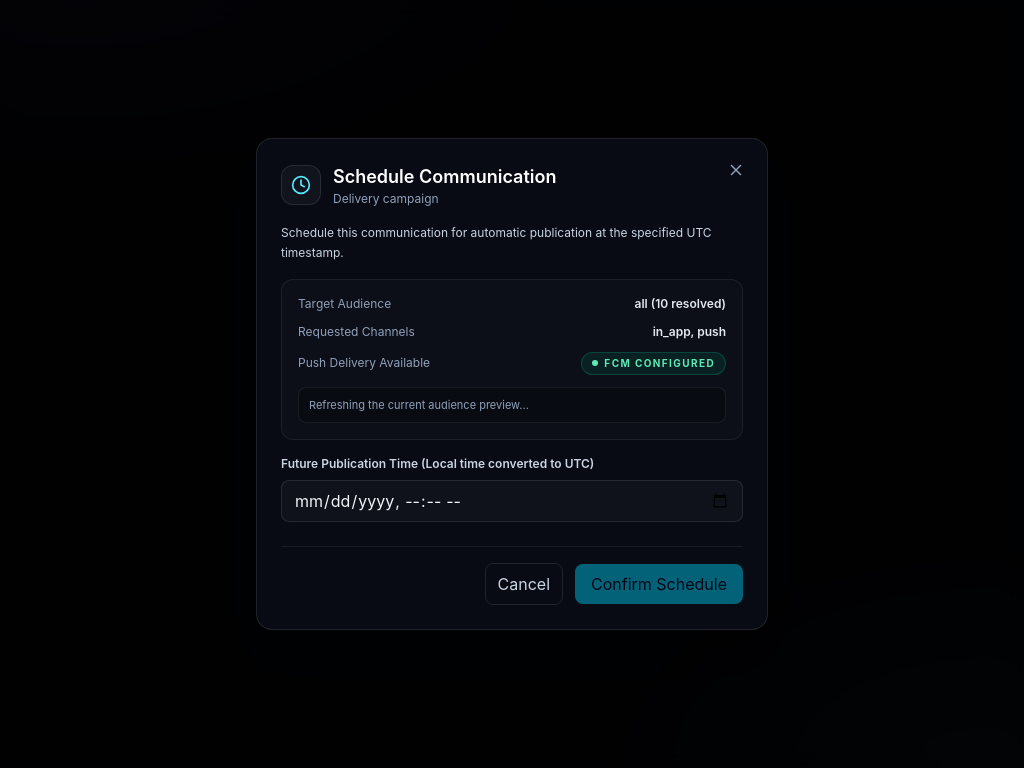
Scenario: consequential action safeguards › surfaces a failed mutation without closing the action
Step 1. Type "2099-01-01T10:00" into the field labelled "Future Publication Time (Local time converted to UTC)" → (512, 502), box [281,480,743,522]
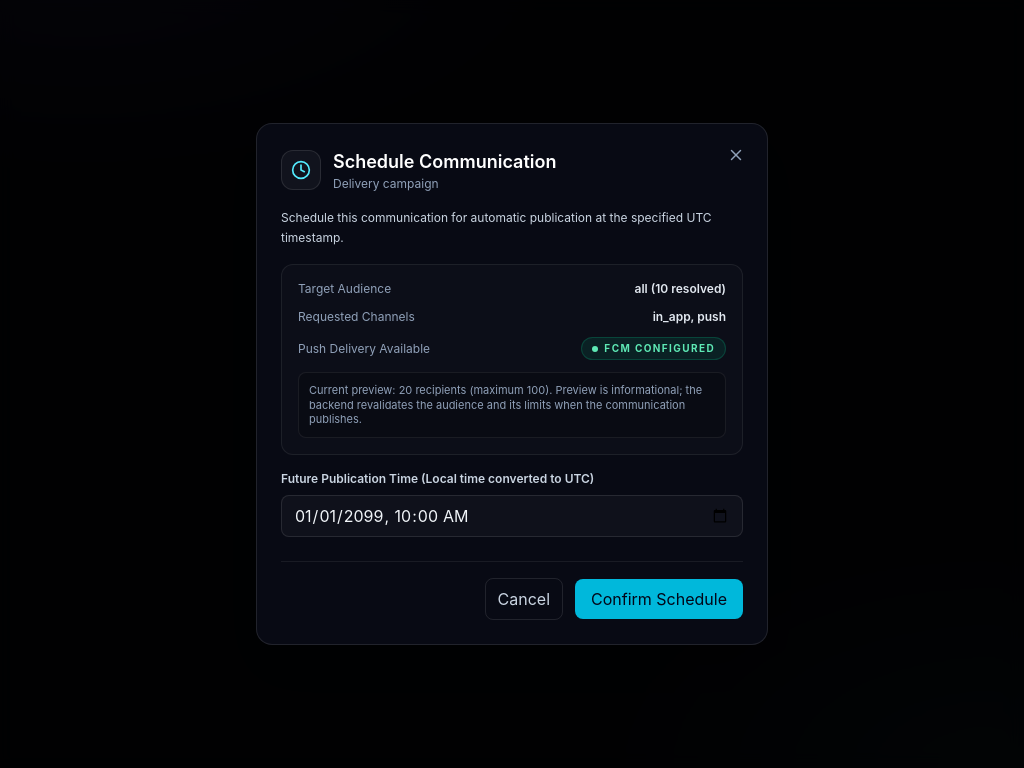
expect the button "Confirm Schedule" is enabled: met
Step 2. Click the button "Confirm Schedule" → (659, 599), box [575,579,743,619]
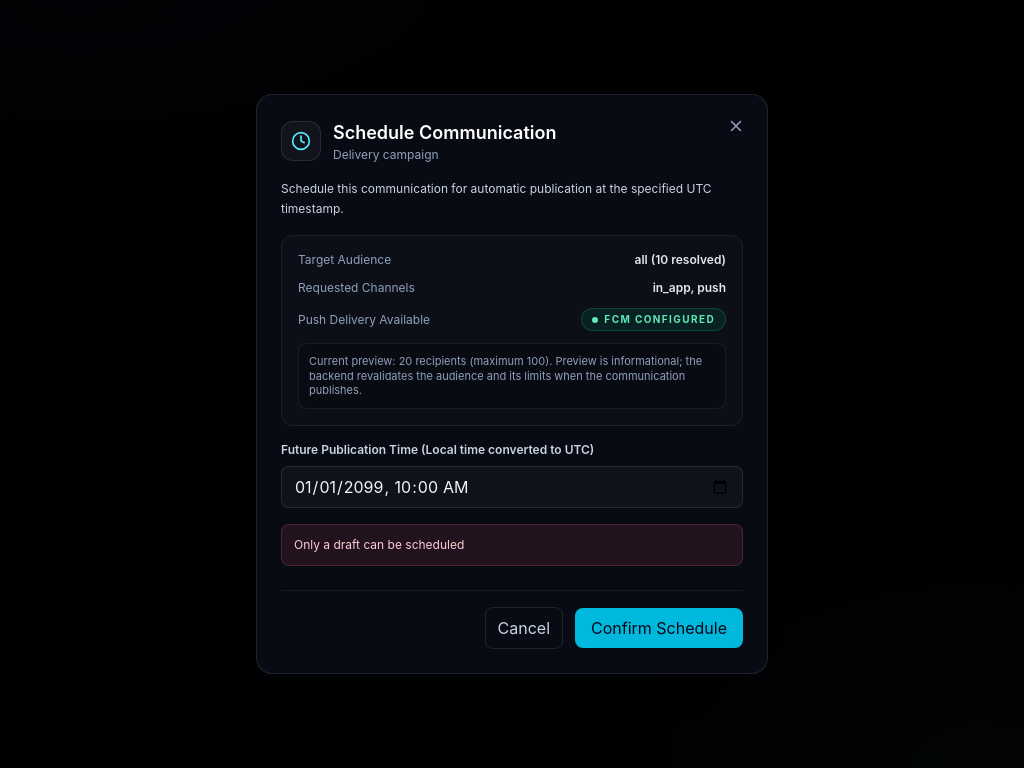
expect the text "Only a draft can be scheduled" is shown: met, box [281,524,743,566]
